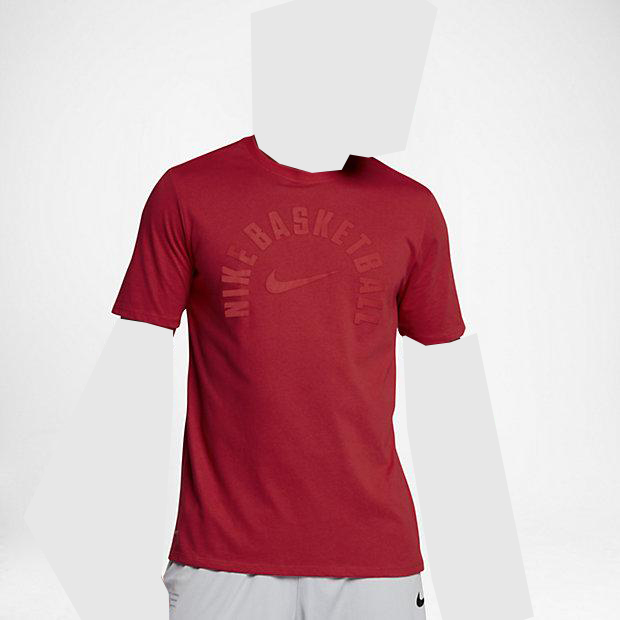teeshirt: (108, 132, 471, 581)
